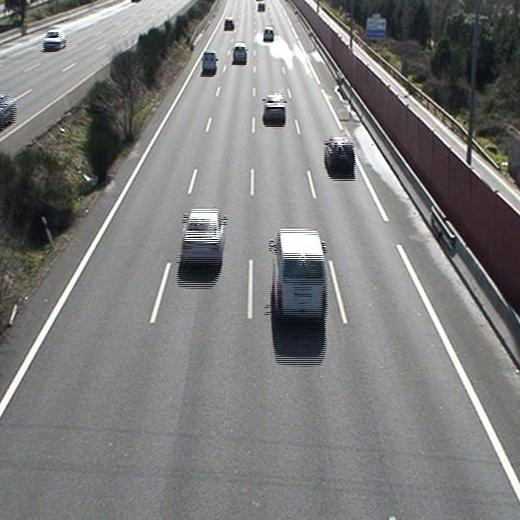car: (181, 209, 226, 267), (323, 137, 355, 175), (262, 93, 286, 125), (202, 52, 217, 74), (232, 43, 247, 64), (264, 27, 274, 42), (223, 19, 234, 30)
van: (272, 225, 329, 326)
